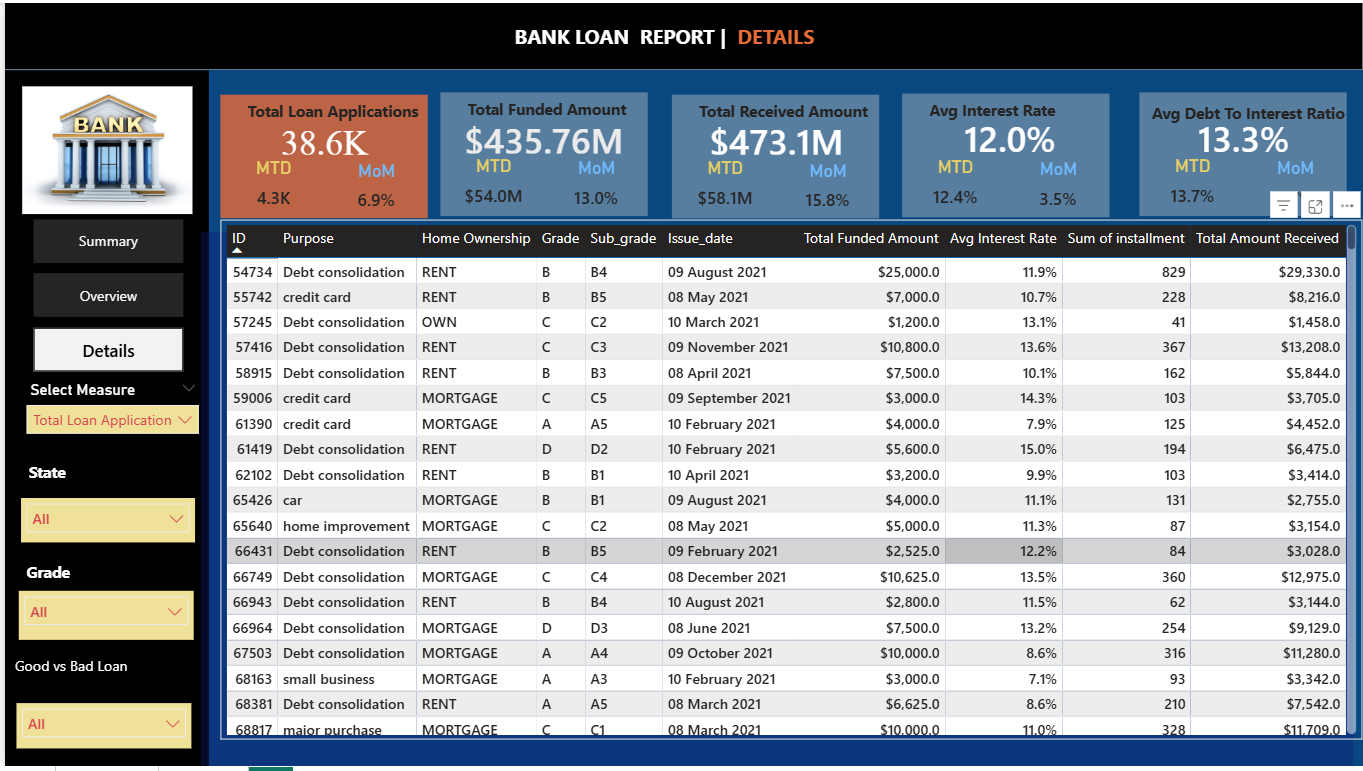

Layout of this report page (visuals, bound fields, positions):
{"tool":"powerbi","page":{"name":"Details","canvas":[1280,720],"ordinal":2},"visuals":[{"type":"group","id":"g1","title":"Group 3","box":[0,0,1280.3,720.6],"z":0},{"type":"shape","box":[0,63.7,192.1,656.4],"z":0,"group":"g1"},{"type":"shape","box":[410.3,84.2,195.6,116.7],"z":0,"group":"g4"},{"type":"shape","box":[1069.4,84.2,195.6,116.7],"z":0,"group":"g8"},{"type":"shape","box":[845.4,85.3,195.6,116.7],"z":0,"group":"g7"},{"type":"shape","box":[628.3,86.5,195.6,116.7],"z":0,"group":"g5"},{"type":"shape","box":[203.1,86.7,195.6,116.7],"z":0,"group":"g3"},{"type":"slicer","fields":{"Values":["financial_loan.grade"]},"box":[13,554.3,164.7,46.1],"z":0,"group":"g2"},{"type":"slicer","fields":{"Values":["financial_loan.Good v Bad Loan"]},"box":[10.5,659.4,165.1,43.2],"z":0,"group":"g10"},{"type":"shape","box":[0,0,1280,62.6],"z":1000,"group":"g1"},{"type":"cardVisual","fields":{"Data":["financial_loan.Avg DTI"]},"box":[1070.5,111.2,195.6,31.3],"z":1000,"group":"g8"},{"type":"cardVisual","fields":{"Data":["financial_loan.Avg Interest Rate"]},"box":[849.2,111.6,195.2,31.6],"z":1000,"group":"g6"},{"type":"cardVisual","fields":{"Data":["financial_loan.Total Amount Received"]},"box":[629.4,113.5,195.6,31.3],"z":1000,"group":"g5"},{"type":"cardVisual","fields":{"Data":["financial_loan.Total Loan Application"]},"box":[204.2,113.7,195.6,31.3],"z":1000,"group":"g3"},{"type":"group","id":"g2","title":"Group 5","box":[13,520.8,165.3,79.9],"z":1000},{"type":"textbox","box":[14.9,520.8,161.4,34],"z":1000,"group":"g2"},{"type":"textbox","box":[430.8,84.2,175,35.7],"z":2000,"group":"g4"},{"type":"textbox","box":[865.9,85.3,175,35.7],"z":2000,"group":"g6"},{"type":"textbox","box":[648.8,86.5,175,35.7],"z":2000,"group":"g5"},{"type":"textbox","box":[223.6,86.7,175,35.7],"z":2000,"group":"g3"},{"type":"textbox","box":[1065,88.7,213.9,31.6],"z":2000,"group":"g8"},{"type":"textbox","box":[822.5,238.8,147.5,31.2],"z":2000},{"type":"cardVisual","fields":{"Data":["financial_loan.Total Funded Amount"]},"box":[410.3,112.2,195.2,31.6],"z":3000},{"type":"cardVisual","title":"MTD","fields":{"Data":["financial_loan.MTD Funded Amount"]},"box":[411.4,143.6,98.3,57.3],"z":3000,"group":"g4"},{"type":"cardVisual","title":"MTD","fields":{"Data":["financial_loan.MTD Avg DTI"]},"box":[1070.5,143.6,98.3,57.3],"z":3000,"group":"g8"},{"type":"cardVisual","title":"MTD","fields":{"Data":["financial_loan.MTD Avg Interest Rate"]},"box":[846.5,144.7,98.3,57.3],"z":3000,"group":"g6"},{"type":"cardVisual","title":"MTD","fields":{"Data":["financial_loan.MTD Total Amount Received"]},"box":[629.4,145.9,98.3,57.3],"z":3000,"group":"g5"},{"type":"cardVisual","title":"MTD","fields":{"Data":["financial_loan.MTD loan Applications"]},"box":[204.2,146.1,98.3,57.3],"z":3000,"group":"g3"},{"type":"textbox","box":[4,610,151.3,34.6],"z":3000,"group":"g10"},{"type":"textbox","box":[475.3,13.2,341.4,42.8],"z":4000},{"type":"cardVisual","title":"MoM","fields":{"Data":["financial_loan.MoM Loan Application"]},"box":[508.5,145.3,97.8,56.7],"z":4000,"group":"g4"},{"type":"cardVisual","title":"MoM","fields":{"Data":["financial_loan.MoM Avg DTI"]},"box":[1167.6,145.3,97.8,56.7],"z":4000,"group":"g8"},{"type":"cardVisual","title":"MoM","fields":{"Data":["financial_loan.MoM Avg Int Rate"]},"box":[943.6,146.4,97.8,56.7],"z":4000,"group":"g6"},{"type":"cardVisual","title":"MoM","fields":{"Data":["financial_loan.MoM Total Amount Received"]},"box":[726.5,147.6,97.8,56.7],"z":4000,"group":"g5"},{"type":"cardVisual","title":"MoM","fields":{"Data":["financial_loan.MoM Loan Application"]},"box":[301.3,147.8,97.8,56.7],"z":4000,"group":"g3"},{"type":"group","id":"g3","title":"Group 1","box":[203.1,86.7,196.5,117.5],"z":5000},{"type":"group","id":"g4","title":"Group 1","box":[410.3,84.2,196,117.7],"z":6000},{"type":"group","id":"g5","title":"Group 1","box":[628.3,86.5,196.4,118.1],"z":7000},{"type":"group","id":"g6","title":"Group 2","box":[846.5,85.3,197.9,117.7],"z":7001,"group":"g7"},{"type":"group","id":"g7","title":"Group 1","box":[845.4,85.3,198.7,118.1],"z":8000},{"type":"shape","box":[184.7,216.1,1086.9,503.5],"z":9000},{"type":"group","id":"g8","title":"Group 1","box":[1065,84.2,213.9,117.7],"z":10000},{"type":"group","id":"g9","title":"Group 4","box":[15.1,426.8,164.2,82.1],"z":11000},{"type":"slicer","fields":{"Values":["Select Measure.Select Measure"]},"box":[10.8,351.1,181.5,75.6],"z":12000},{"type":"group","id":"g10","title":"Group 6","box":[4,610,171.6,92.5],"z":13000},{"type":"tableEx","fields":{"Values":["financial_loan.id","financial_loan.purpose","financial_loan.home_ownership","financial_loan.grade","financial_loan.sub_grade","financial_loan.issue_date","financial_loan.Total Funded Amount","financial_loan.Avg Interest Rate","Sum(financial_loan.installment)","financial_loan.Total Amount Received"]},"box":[203.1,204.2,1076.1,490.5],"z":14000},{"type":"pageNavigator","box":[27,204.2,141.5,143.7],"z":15000},{"type":"image","box":[16.2,63.7,161,150.2],"z":16000},{"type":"slicer","fields":{"Values":["financial_loan.address_state"]},"box":[15.1,466.9,164.2,42.2],"z":20000,"group":"g9"},{"type":"textbox","box":[17.1,426.8,158.7,34.2],"z":21000,"group":"g9"}]}

Visuals, with their boxes on the page's 1280x720 design canvas (x1, y1, x2, y2). These are canvas units, not pixel positions in the 1363x771 screenshot, which may show the page scaled, cropped or inside an application window:
"Group 3" group: <region>0, 0, 1280, 721</region>
shape: <region>0, 64, 192, 720</region>
shape: <region>410, 84, 606, 201</region>
shape: <region>1069, 84, 1265, 201</region>
shape: <region>845, 85, 1041, 202</region>
shape: <region>628, 86, 824, 203</region>
shape: <region>203, 87, 399, 203</region>
slicer - financial_loan.grade: <region>13, 554, 178, 600</region>
slicer - financial_loan.Good v Bad Loan: <region>10, 659, 176, 703</region>
shape: <region>0, 0, 1280, 63</region>
cardVisual - financial_loan.Avg DTI: <region>1070, 111, 1266, 142</region>
cardVisual - financial_loan.Avg Interest Rate: <region>849, 112, 1044, 143</region>
cardVisual - financial_loan.Total Amount Received: <region>629, 114, 825, 145</region>
cardVisual - financial_loan.Total Loan Application: <region>204, 114, 400, 145</region>
"Group 5" group: <region>13, 521, 178, 601</region>
textbox: <region>15, 521, 176, 555</region>
textbox: <region>431, 84, 606, 120</region>
textbox: <region>866, 85, 1041, 121</region>
textbox: <region>649, 86, 824, 122</region>
textbox: <region>224, 87, 399, 122</region>
textbox: <region>1065, 89, 1279, 120</region>
textbox: <region>822, 239, 970, 270</region>
cardVisual - financial_loan.Total Funded Amount: <region>410, 112, 606, 144</region>
"MTD" cardVisual: <region>411, 144, 510, 201</region>
"MTD" cardVisual: <region>1070, 144, 1169, 201</region>
"MTD" cardVisual: <region>846, 145, 945, 202</region>
"MTD" cardVisual: <region>629, 146, 728, 203</region>
"MTD" cardVisual: <region>204, 146, 302, 203</region>
textbox: <region>4, 610, 155, 645</region>
textbox: <region>475, 13, 817, 56</region>
"MoM" cardVisual: <region>508, 145, 606, 202</region>
"MoM" cardVisual: <region>1168, 145, 1265, 202</region>
"MoM" cardVisual: <region>944, 146, 1041, 203</region>
"MoM" cardVisual: <region>726, 148, 824, 204</region>
"MoM" cardVisual: <region>301, 148, 399, 204</region>
"Group 1" group: <region>203, 87, 400, 204</region>
"Group 1" group: <region>410, 84, 606, 202</region>
"Group 1" group: <region>628, 86, 825, 205</region>
"Group 2" group: <region>846, 85, 1044, 203</region>
"Group 1" group: <region>845, 85, 1044, 203</region>
shape: <region>185, 216, 1272, 720</region>
"Group 1" group: <region>1065, 84, 1279, 202</region>
"Group 4" group: <region>15, 427, 179, 509</region>
slicer - Select Measure.Select Measure: <region>11, 351, 192, 427</region>
"Group 6" group: <region>4, 610, 176, 702</region>
tableEx - financial_loan.id x financial_loan.purpose: <region>203, 204, 1279, 695</region>
pageNavigator: <region>27, 204, 168, 348</region>
image: <region>16, 64, 177, 214</region>
slicer - financial_loan.address_state: <region>15, 467, 179, 509</region>
textbox: <region>17, 427, 176, 461</region>
